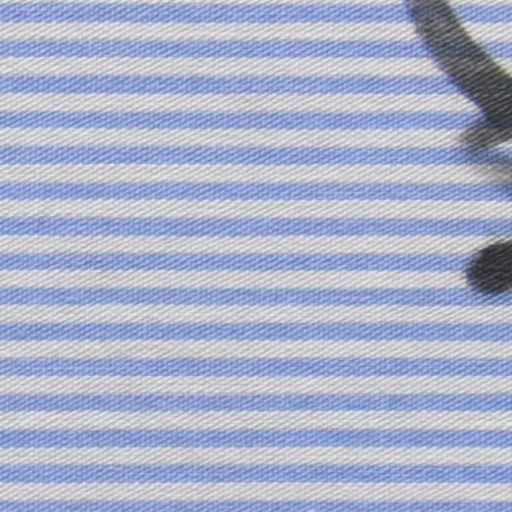defect: (398, 1, 512, 297)
